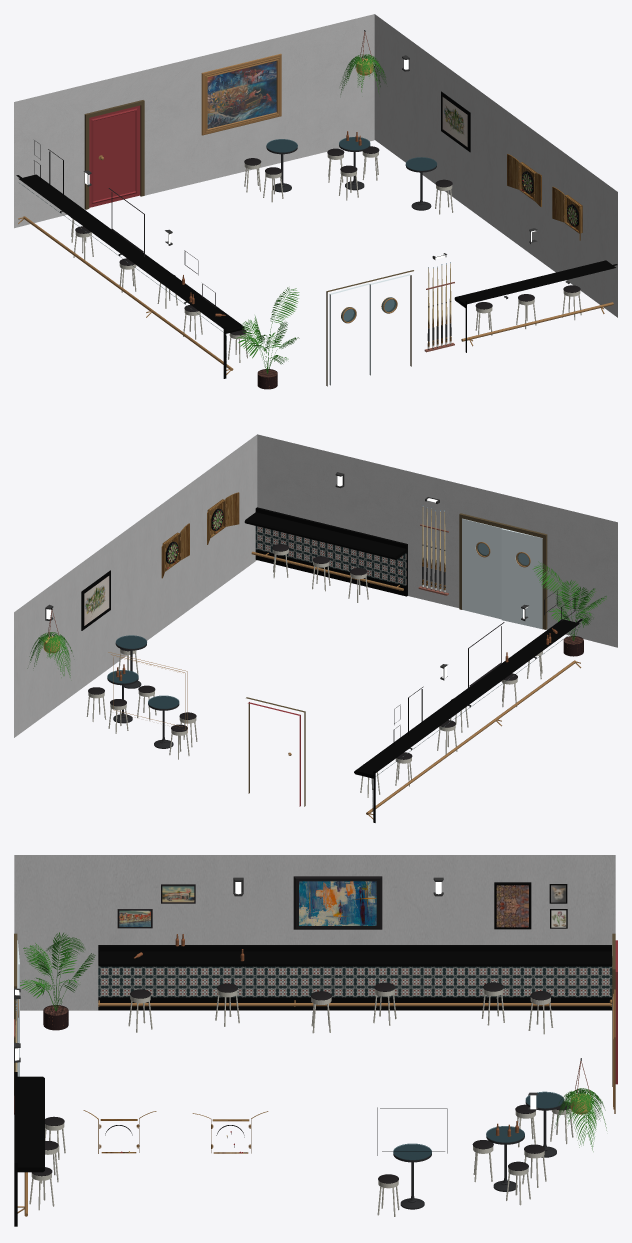
Rendered from room.glb.
The picture shows the model from 3 angles, top to bottom: view 1: azimuth 30°, elevation 25°; view 2: azimuth 150°, elevation 25°; view 3: azimuth 270°, elevation 25°; orthographic projection. The views are drawn at different scales.
Parts seen in each view (by area): view 1: Cube.003, Plane.003, Cube.009, Plane.011, frame, Cube.007, frame.001, Areca palm.001, Cube.006, Plane.012, metal_bar, Plane.027 (+3 smaller); view 2: Cube.001, Plane.003, frame.001, frame, Plane.002, Plane.001, Plane.023, Areca palm.001, Plane.004, metal_bar, Areca palm.003, Plane.027; view 3: Plane, frame, Plane.014, Plane.033, frame.001, Areca palm.001, metal_bar, Cube.018, Areca palm.003, Cube.024, Areca palm, Circle.006 (+5 smaller).
Part boxes in pixels (x1,y1,x2,y2): Cube.003: [14, 14, 374, 228]; Plane.003: [374, 14, 617, 317]; Cube.009: [14, 15, 374, 225]; Plane.011: [89, 105, 140, 207]; frame: [16, 174, 244, 378]; Cube.007: [207, 61, 276, 128]; frame.001: [454, 260, 617, 352]; Areca palm.001: [235, 287, 299, 373]; Cube.006: [201, 53, 281, 135]; Plane.012: [84, 100, 144, 209]; metal_bar: [18, 216, 233, 374]; Plane.027: [442, 97, 467, 146]; Cube.001: [257, 434, 617, 647]; Plane.003: [14, 434, 257, 737]; frame.001: [244, 507, 407, 596]; frame: [354, 619, 582, 822]; Plane.002: [501, 528, 542, 629]; Plane.001: [462, 518, 502, 619]; Plane.023: [255, 526, 406, 585]; Areca palm.001: [532, 561, 606, 640]; Plane.004: [459, 513, 547, 629]; metal_bar: [366, 660, 581, 819]; Areca palm.003: [27, 632, 73, 677]; Plane.027: [84, 576, 109, 625]; Plane: [14, 855, 615, 1010]; frame: [98, 945, 611, 1010]; Plane.014: [98, 956, 612, 997]; Plane.033: [299, 881, 376, 925]; frame.001: [14, 1072, 44, 1226]; Areca palm.001: [20, 932, 95, 1011]; metal_bar: [98, 1000, 611, 1006]; Cube.018: [293, 876, 382, 929]; Areca palm.003: [554, 1088, 606, 1151]; Cube.024: [496, 885, 528, 927]; Areca palm: [43, 1005, 68, 1030]; Circle.006: [393, 1144, 431, 1162].
Bounding box in the file's own units: 8.33 × 2.78 × 9.76.
Materials: 33 (15 with a texture image).
